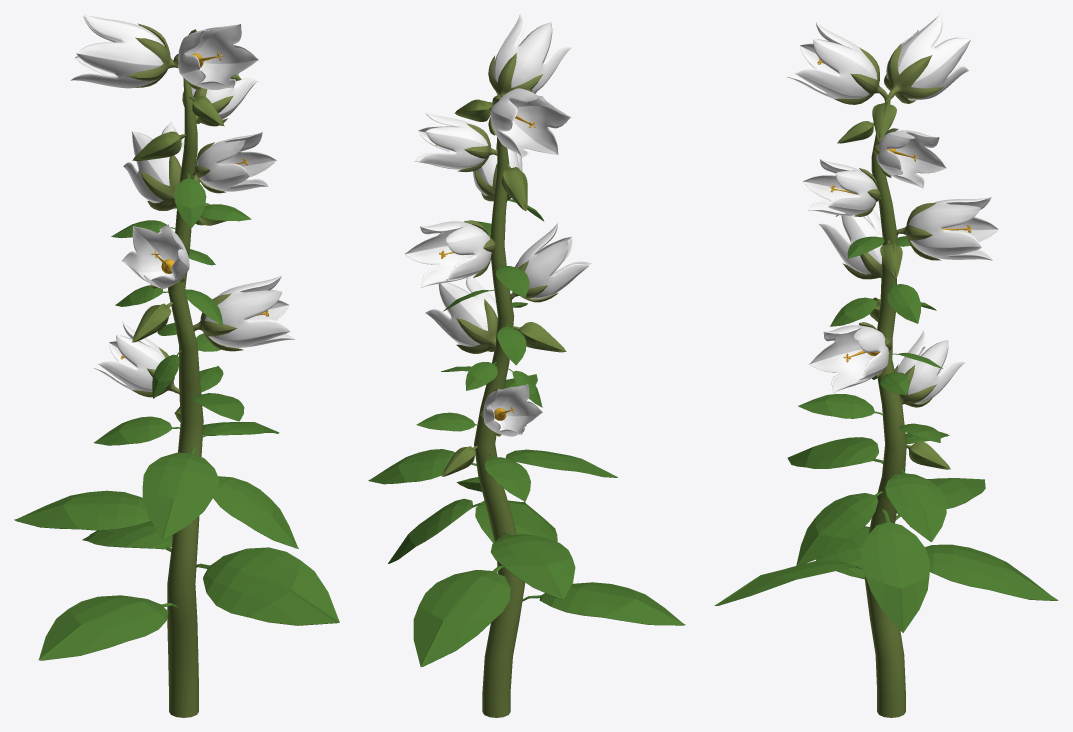
The model's file is Campanula trachelium.fbx.
3 views of the same model, side by side, from view 1: azimuth 30°, elevation 25°; view 2: azimuth 150°, elevation 25°; view 3: azimuth 270°, elevation 25° (orthographic). The views are drawn at different scales.
Visible parts, largest first — view 1: Cylinder.001, Plane.004, Plane.007, flower_c.001, Plane.006, flower_c.005, Plane.003, flower_c, flower_c.006, flower_c.003, Plane.009, flower_c.007 (+12 smaller); view 2: Cylinder.001, Plane.002, flower_c.004, flower_c.001, flower_c, Plane.003, Plane.007, flower_c.005, flower_c.002, flower_c.003, buton_c, flower_c.007 (+10 smaller); view 3: Cylinder.001, Plane.005, flower_c.004, flower_c.001, flower_c, Plane.002, flower_c.005, Plane.009, flower_c.006, flower_c.002, Plane.008, buton_c (+9 smaller).
Boxes of the visible parts, x1=… form: Cylinder.001: x1=167, y1=77, x2=203, y2=717; Plane.004: x1=196, y1=547, x2=339, y2=625; Plane.007: x1=38, y1=595, x2=178, y2=660; flower_c.001: x1=70, y1=14, x2=177, y2=88; Plane.006: x1=142, y1=447, x2=219, y2=539; flower_c.005: x1=193, y1=275, x2=294, y2=351; Plane.003: x1=14, y1=490, x2=150, y2=530; flower_c: x1=173, y1=23, x2=258, y2=89; flower_c.006: x1=193, y1=132, x2=276, y2=193; flower_c.003: x1=121, y1=224, x2=189, y2=288; Plane.009: x1=213, y1=476, x2=298, y2=548; flower_c.007: x1=94, y1=322, x2=180, y2=397; Cylinder.001: x1=474, y1=137, x2=525, y2=717; Plane.002: x1=413, y1=565, x2=510, y2=666; flower_c.004: x1=404, y1=220, x2=495, y2=287; flower_c.001: x1=488, y1=88, x2=570, y2=157; flower_c: x1=488, y1=14, x2=571, y2=95; Plane.003: x1=490, y1=532, x2=575, y2=600; Plane.007: x1=522, y1=582, x2=685, y2=625; flower_c.005: x1=425, y1=275, x2=497, y2=353; flower_c.002: x1=414, y1=112, x2=497, y2=172; flower_c.003: x1=510, y1=223, x2=591, y2=302; buton_c: x1=441, y1=99, x2=566, y2=476; flower_c.007: x1=480, y1=384, x2=542, y2=436; Cylinder.001: x1=864, y1=97, x2=906, y2=717; Plane.005: x1=861, y1=509, x2=929, y2=632; flower_c.004: x1=896, y1=197, x2=998, y2=260; flower_c.001: x1=884, y1=14, x2=971, y2=103; flower_c: x1=787, y1=22, x2=888, y2=104; Plane.002: x1=925, y1=544, x2=1058, y2=600; flower_c.005: x1=809, y1=322, x2=891, y2=392; Plane.009: x1=796, y1=491, x2=882, y2=566; flower_c.006: x1=803, y1=159, x2=880, y2=216; flower_c.002: x1=873, y1=128, x2=946, y2=188; Plane.008: x1=885, y1=468, x2=946, y2=541; buton_c: x1=837, y1=99, x2=950, y2=469.
Size of the model in its own units: 822 by 1935 by 886.
